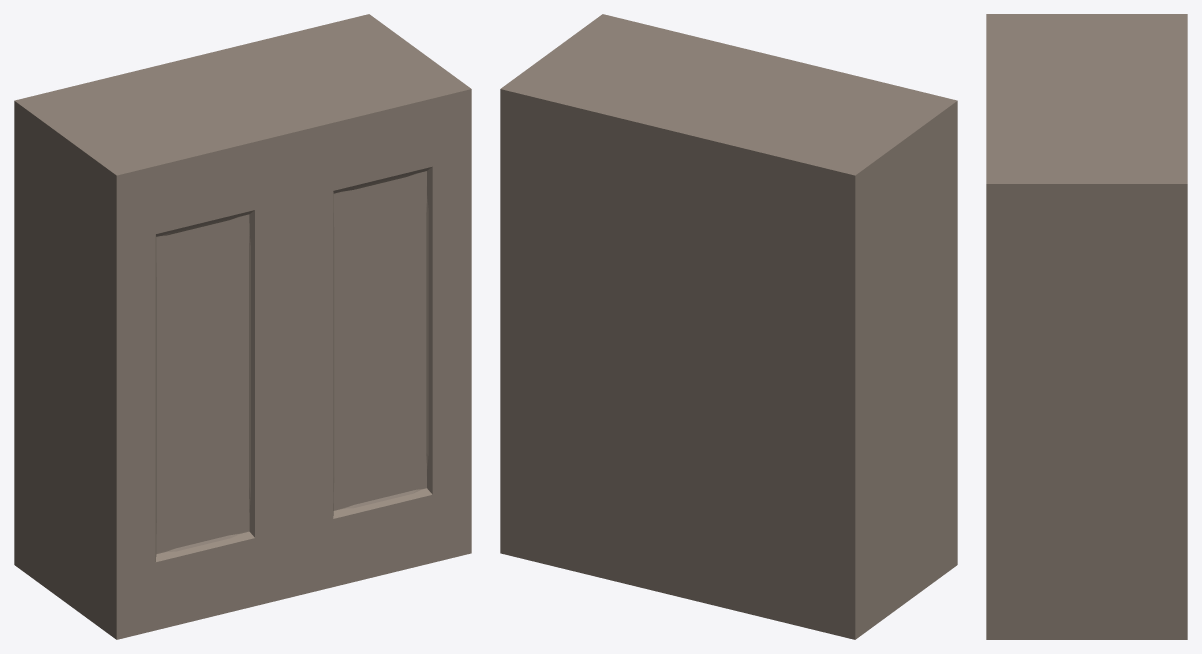
File: Wall-Cabinet-18-High-12-Deep_std_001_H30in_onlyH.glb
3 views of the same model, side by side, from view 1: azimuth 30°, elevation 25°; view 2: azimuth 150°, elevation 25°; view 3: azimuth 270°, elevation 25° (orthographic).
Parts seen in each view (by area): view 1: Wall-Cabinet-18-High-12-Deep.std.001_H30in_onlyH; view 2: Wall-Cabinet-18-High-12-Deep.std.001_H30in_onlyH; view 3: Wall-Cabinet-18-High-12-Deep.std.001_H30in_onlyH.
Part boxes in pixels (<box>): Wall-Cabinet-18-High-12-Deep.std.001_H30in_onlyH: <box>14,14,471,639</box>; Wall-Cabinet-18-High-12-Deep.std.001_H30in_onlyH: <box>500,14,957,639</box>; Wall-Cabinet-18-High-12-Deep.std.001_H30in_onlyH: <box>986,14,1187,639</box>.
Bounding box in the file's own units: 0.6096 × 0.762 × 0.3048.
